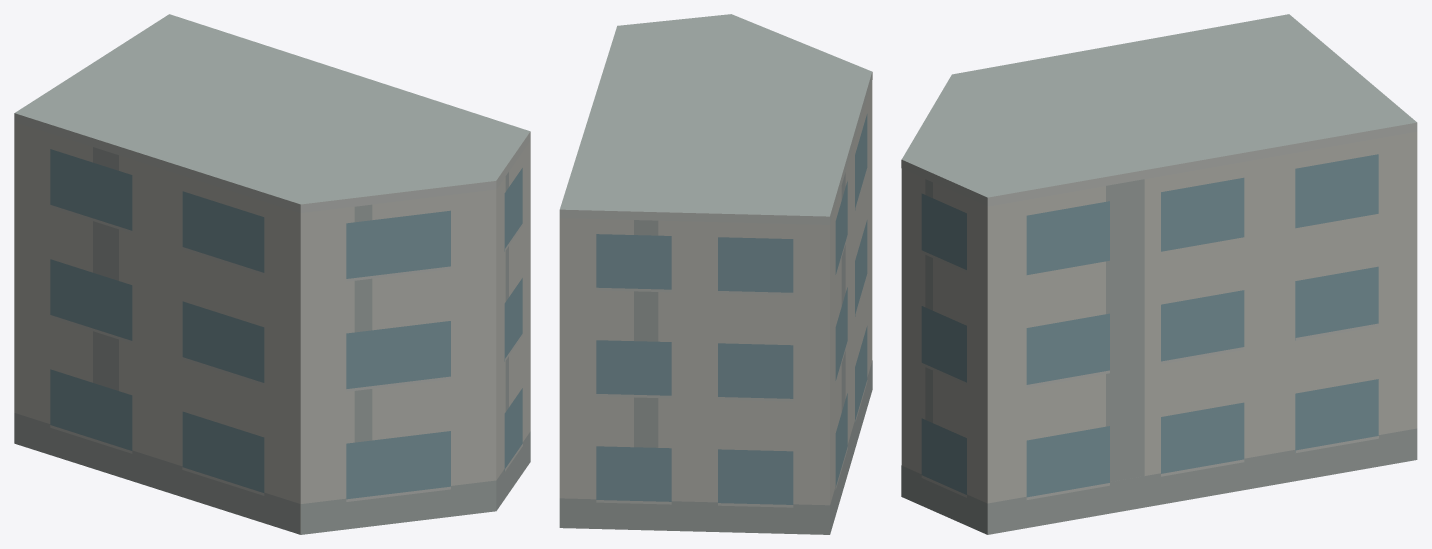
Rendered from residential-e2090887-0192-4ff5-aea1-efc8f6d34d5c.glb.
3 renders of one model, left to right at view 1: azimuth 30°, elevation 25°; view 2: azimuth 150°, elevation 25°; view 3: azimuth 270°, elevation 25°, orthographic. The views are drawn at different scales.
Visible parts, largest first — view 1: residential-e2090887-0192-4ff5-aea1-efc8f6d34d5c.tmp; view 2: residential-e2090887-0192-4ff5-aea1-efc8f6d34d5c.tmp; view 3: residential-e2090887-0192-4ff5-aea1-efc8f6d34d5c.tmp.
Part boxes in pixels (bbox=[...]): residential-e2090887-0192-4ff5-aea1-efc8f6d34d5c.tmp: bbox=[14, 14, 530, 534]; residential-e2090887-0192-4ff5-aea1-efc8f6d34d5c.tmp: bbox=[559, 14, 872, 534]; residential-e2090887-0192-4ff5-aea1-efc8f6d34d5c.tmp: bbox=[901, 14, 1417, 534].
Size of the model in its own units: 10.69 by 9.15 by 12.69.
